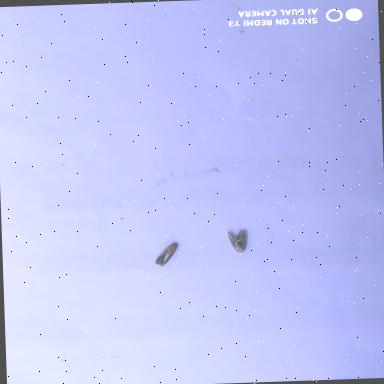pbw: (146, 232, 192, 272), (220, 222, 260, 260)
